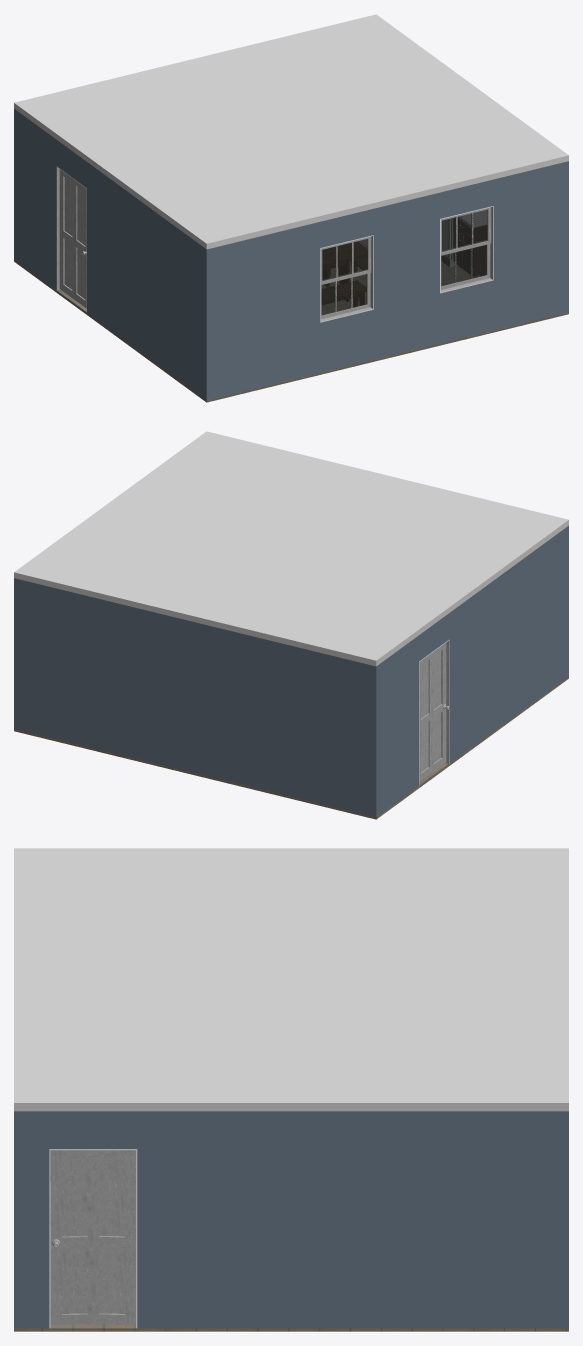
The model's file is kitchen.dae.
3 renders of one model, top to bottom at view 1: azimuth 30°, elevation 25°; view 2: azimuth 150°, elevation 25°; view 3: azimuth 270°, elevation 25°, orthographic. The views are drawn at different scales.
Parts seen in each view (by area): view 1: group_35 (×2), group_34, group_60 (×4), Component_202, group_36, Component_205 (×2), group_59, Component_207, Component_6; view 2: group_35 (×2), group_34, Component_202; view 3: group_34, group_35 (×2), Component_202, Component_198.
Boxes of the visible parts, bbox=[...] form: group_35 (×2): bbox=[14, 109, 568, 402]; group_34: bbox=[14, 14, 568, 249]; group_60 (×4): bbox=[321, 209, 487, 315]; Component_202: bbox=[59, 169, 86, 308]; group_36: bbox=[57, 239, 470, 314]; Component_205 (×2): bbox=[321, 207, 491, 284]; group_59: bbox=[322, 242, 367, 265]; Component_207: bbox=[322, 281, 366, 302]; Component_6: bbox=[475, 225, 486, 275]; group_35 (×2): bbox=[14, 526, 568, 819]; group_34: bbox=[14, 431, 568, 666]; Component_202: bbox=[419, 643, 446, 781]; group_34: bbox=[14, 848, 568, 1111]; group_35 (×2): bbox=[14, 1111, 568, 1331]; Component_202: bbox=[50, 1150, 135, 1324]; Component_198: bbox=[49, 1149, 137, 1328].
Size of the model in its own units: 246 by 225 by 102.
